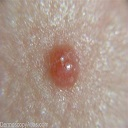Melanoma: (44, 41, 84, 84)
